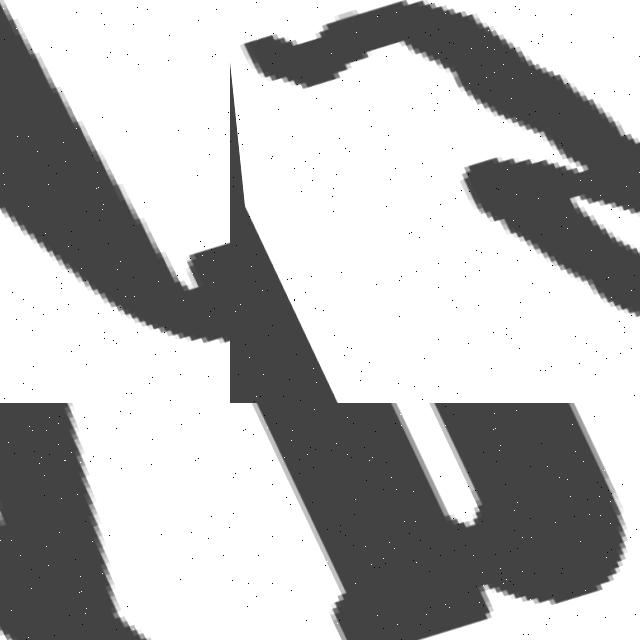B: (238, 0, 640, 316)
U: (230, 403, 640, 640)
Y: (0, 0, 230, 403), (0, 403, 230, 640)
